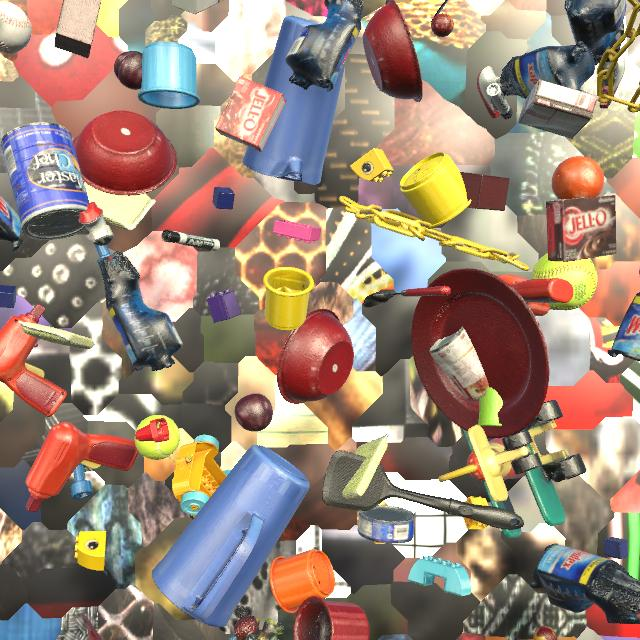ycb_002_master_chef_can: (0, 122, 89, 240)
ycb_004_sugar_box: (172, 0, 224, 14)
ycb_005_tomato_soup_can: (429, 327, 489, 402)
ycb_007_tuna_fish_can: (358, 505, 416, 544)
ycb_008_pudding_box: (518, 79, 600, 139), (546, 195, 617, 262)
ycb_009_gelatin_box: (215, 76, 286, 152)
ycb_011_banana: (639, 555, 640, 561)
ycb_017_orange: (551, 156, 604, 200), (639, 269, 640, 276)
ycb_018_plum: (234, 393, 273, 432), (114, 51, 142, 90)
